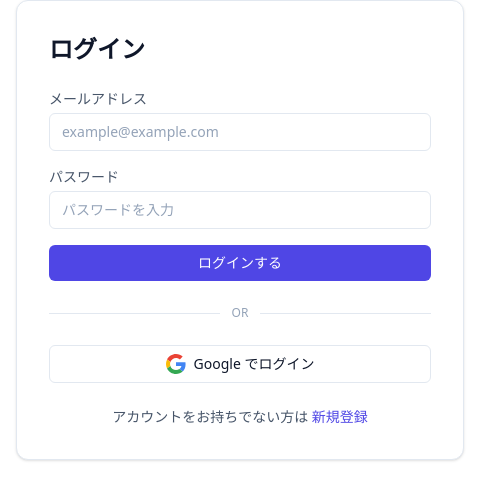
LoginForm › パスワードのバリデーションエラー表示
Type "test@example.com" into the field labelled "メールアドレス" at (240, 132), box x1=49 y1=113 x2=431 y2=151
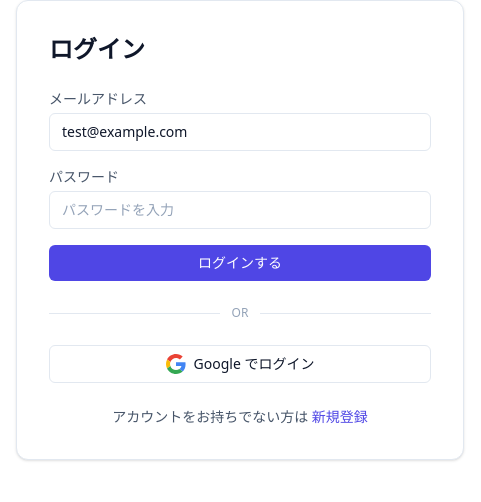
Submit the text "ログインする", box x1=49 y1=89 x2=431 y2=281
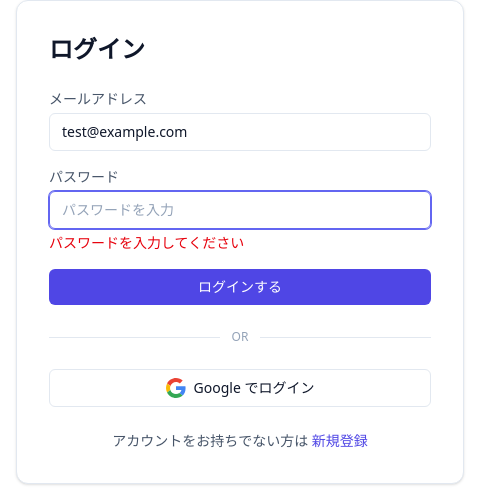
Expected: the text "パスワードを入力してください" is shown, x1=49 y1=233 x2=244 y2=252
